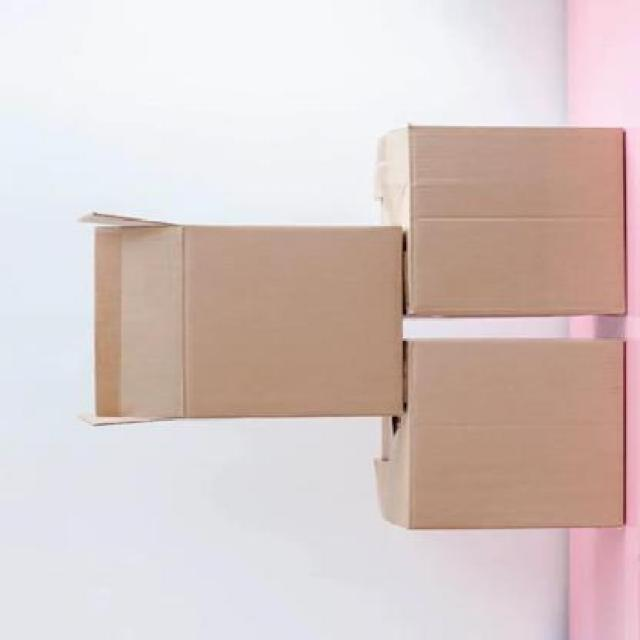defect: (66, 206, 409, 434)
normal: (372, 117, 634, 323), (378, 328, 640, 534)
